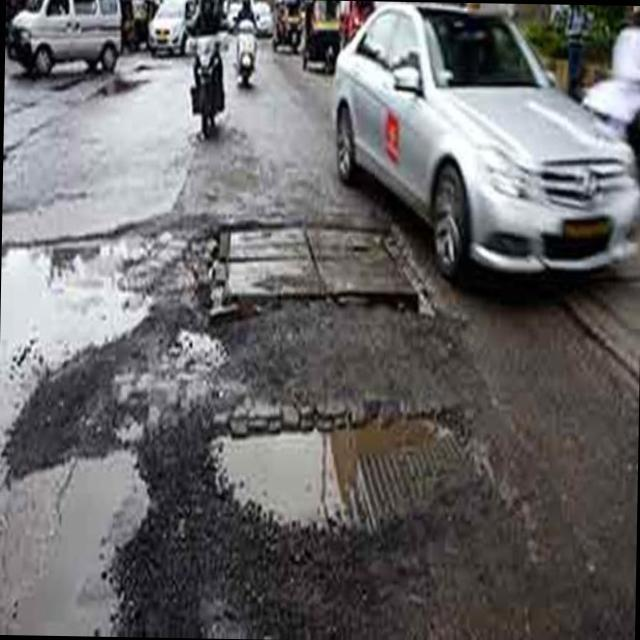Pothole: (0, 239, 150, 443), (0, 449, 147, 632), (218, 418, 433, 524)
